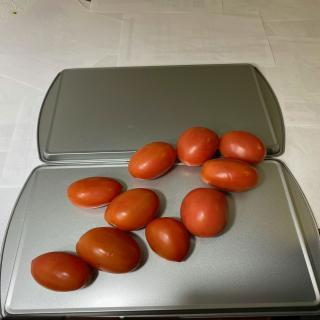Chilli: (31, 126, 268, 292)
Tomato: (76, 227, 142, 274), (31, 251, 92, 292), (180, 187, 229, 238), (104, 188, 160, 231), (200, 158, 260, 192), (145, 217, 190, 262), (128, 141, 177, 180), (66, 176, 124, 208), (176, 126, 219, 166), (219, 130, 267, 164)
